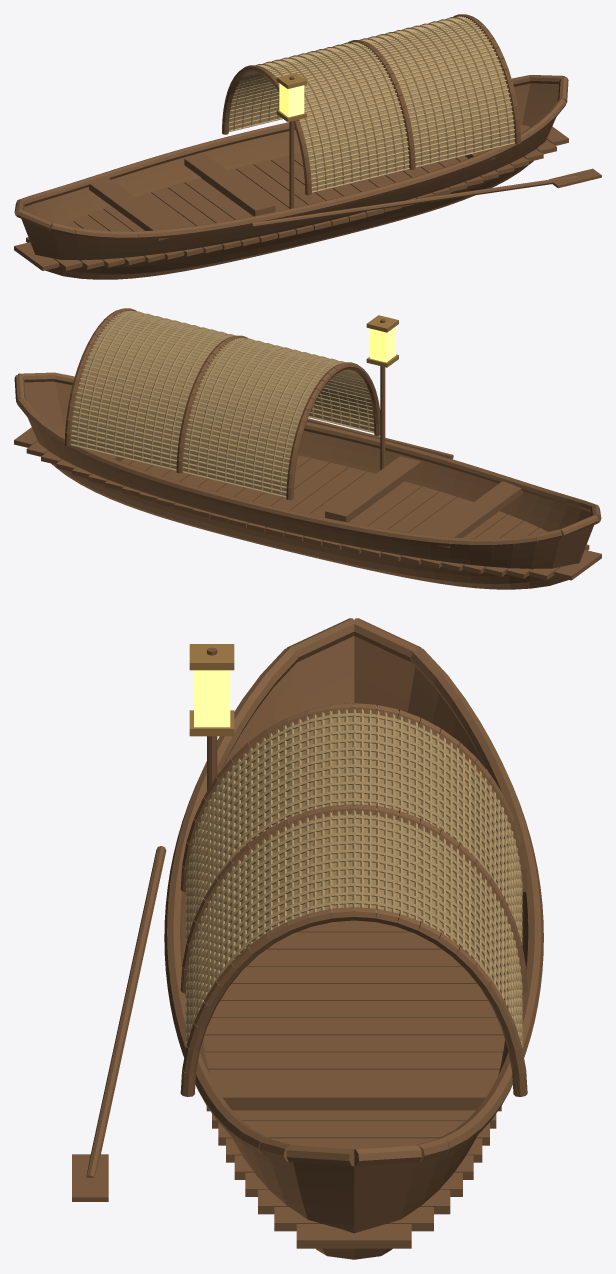
The model's file is skiff.glb.
3 renders of one model, top to bottom at view 1: azimuth 30°, elevation 25°; view 2: azimuth 150°, elevation 25°; view 3: azimuth 270°, elevation 25°, orthographic. The views are drawn at different scales.
Visible parts, largest first — view 1: weathered_chestnut.004, woven_bamboo_reed, reed_weft, lantern_paper.004, lantern_frame.004; view 2: weathered_chestnut.004, woven_bamboo_reed, reed_weft, lantern_paper.004, lantern_frame.004; view 3: weathered_chestnut.004, woven_bamboo_reed, reed_weft, lantern_paper.004, lantern_frame.004.
Boxes of the visible parts, left/top/right/bottom form: weathered_chestnut.004: left=14, top=14, right=601, bottom=279; woven_bamboo_reed: left=229, top=17, right=514, bottom=191; reed_weft: left=229, top=16, right=515, bottom=192; lantern_paper.004: left=279, top=83, right=304, bottom=117; lantern_frame.004: left=276, top=72, right=306, bottom=121; weathered_chestnut.004: left=14, top=308, right=601, bottom=589; woven_bamboo_reed: left=71, top=311, right=374, bottom=495; reed_weft: left=71, top=310, right=374, bottom=497; lantern_paper.004: left=369, top=326, right=395, bottom=362; lantern_frame.004: left=366, top=315, right=398, bottom=367; weathered_chestnut.004: left=72, top=618, right=543, bottom=1259; woven_bamboo_reed: left=185, top=705, right=522, bottom=1047; reed_weft: left=186, top=706, right=522, bottom=1047; lantern_paper.004: left=194, top=670, right=230, bottom=727; lantern_frame.004: left=189, top=644, right=234, bottom=736.
Bounding box in the file's own units: 6.28 × 2.03 × 2.32.
